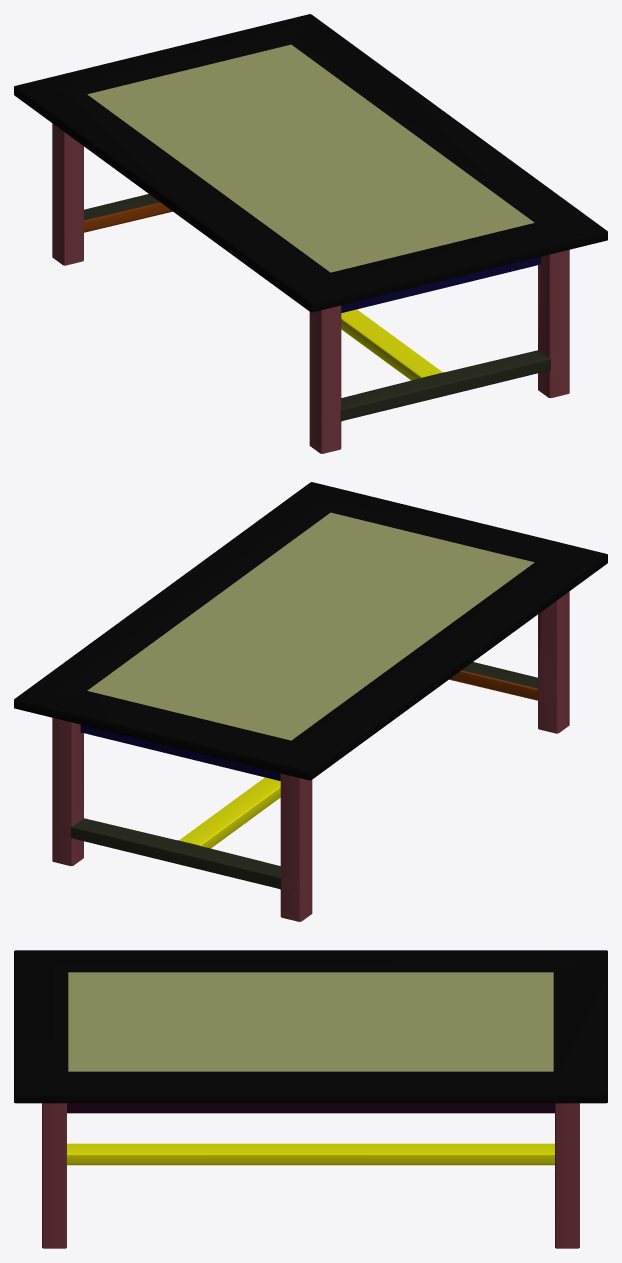
File: largetable_lowpoly.fbx
3 renders of one model, top to bottom at view 1: azimuth 30°, elevation 25°; view 2: azimuth 150°, elevation 25°; view 3: azimuth 270°, elevation 25°, orthographic.
Visible parts, largest first — view 1: largetable_lowpoly; view 2: largetable_lowpoly; view 3: largetable_lowpoly.
Boxes of the visible parts, x1=… form: largetable_lowpoly: x1=14, y1=14, x2=607, y2=453; largetable_lowpoly: x1=14, y1=482, x2=607, y2=921; largetable_lowpoly: x1=14, y1=950, x2=607, y2=1248.
Bounding box in the file's own units: 7.17 × 3.85 × 12.45.
